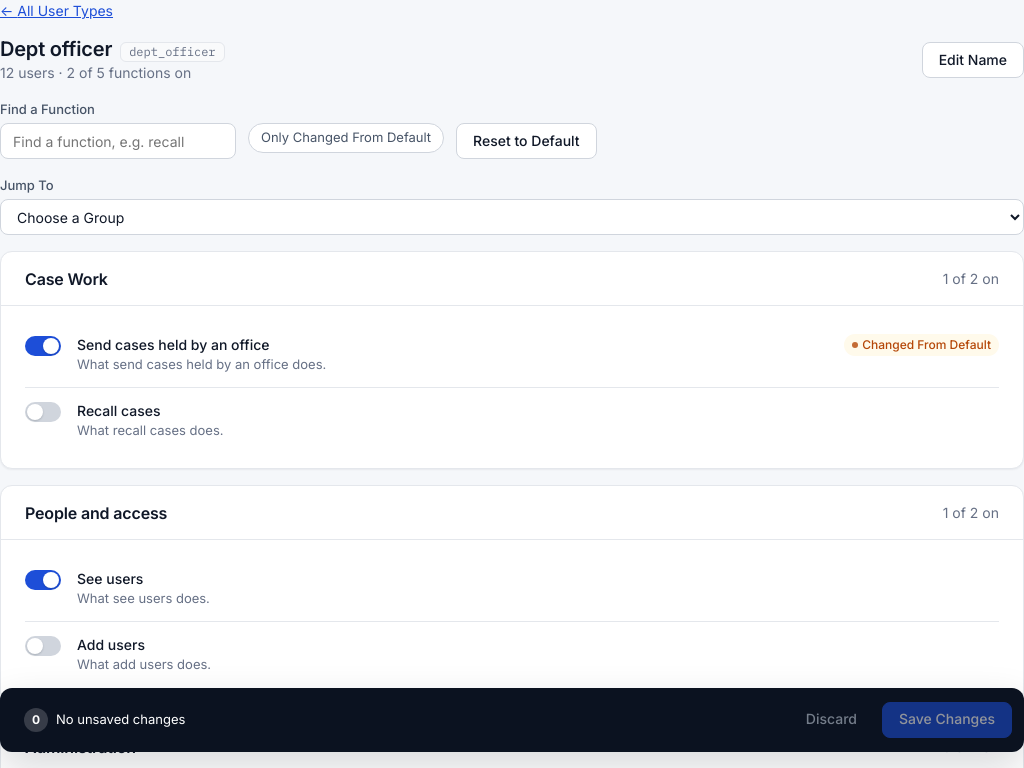
the user-type page (decisions 25-27) › a 400 names the function and keeps the draft
Expected: the switch named "See users" is shown, top-left (25, 570), bottom-right (61, 590)
Click the switch named "Add users".
click(43, 646)  # box top-left (25, 636), bottom-right (61, 656)
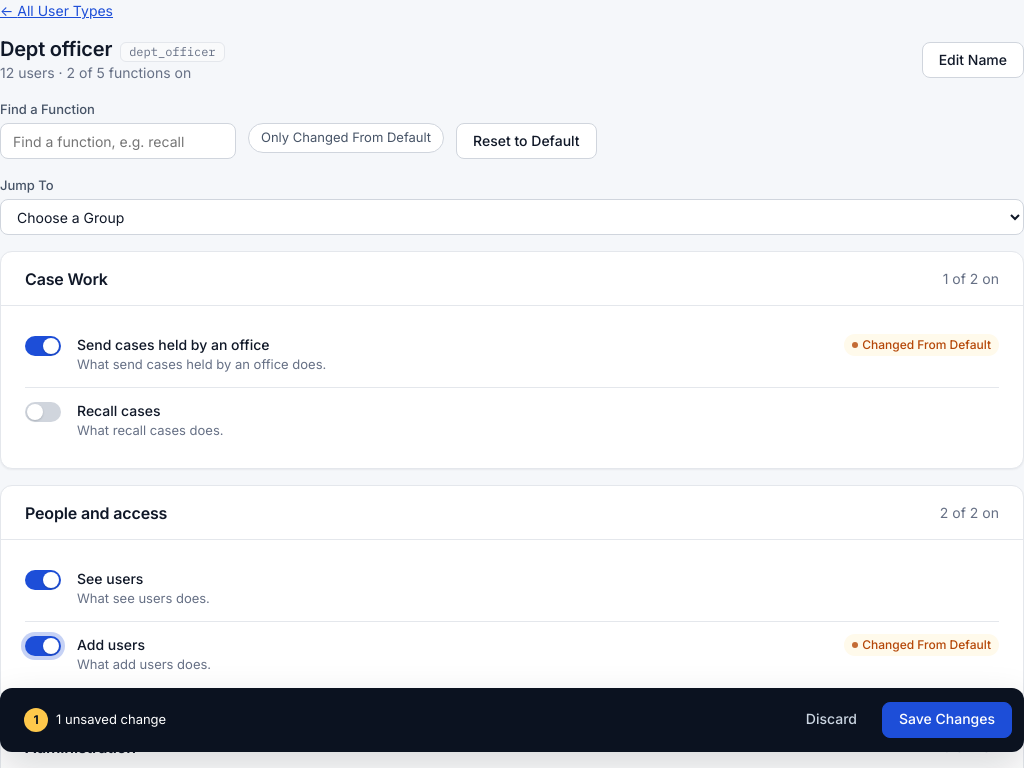
Click the button "Save Changes".
click(947, 720)  # box top-left (882, 702), bottom-right (1012, 738)
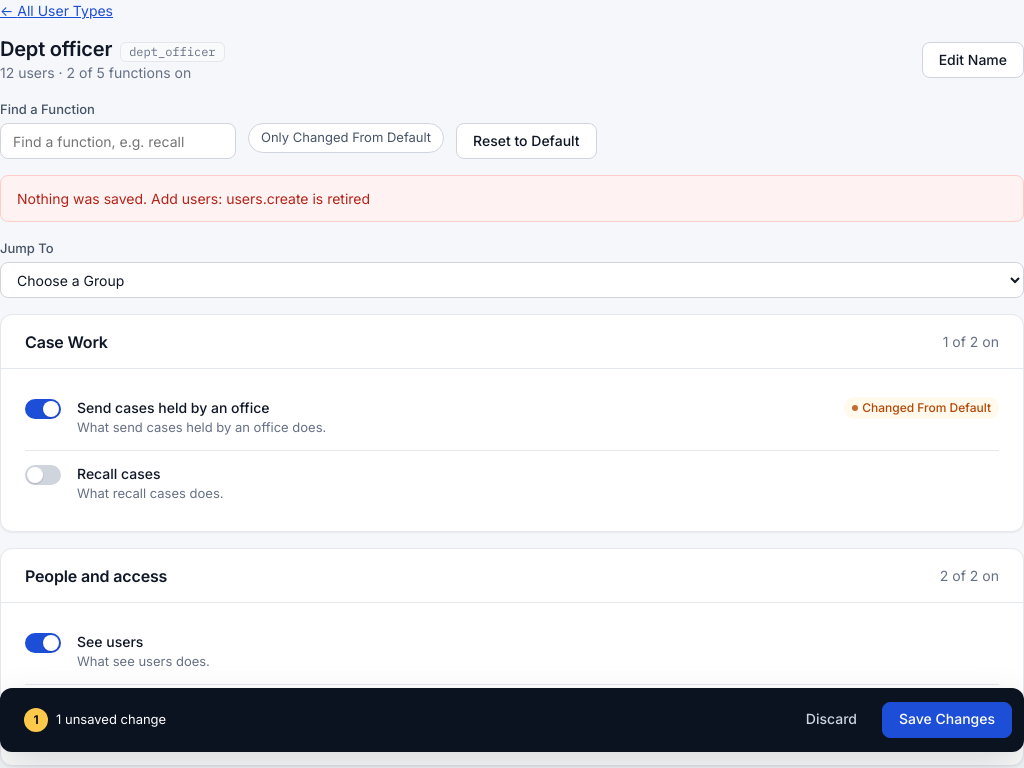
Expected: the text "1 unsaved change" is shown, top-left (56, 710), bottom-right (166, 730)
Expected: the text "Nothing was saved. Add users: users.create is retired" is shown, top-left (17, 188), bottom-right (370, 209)
